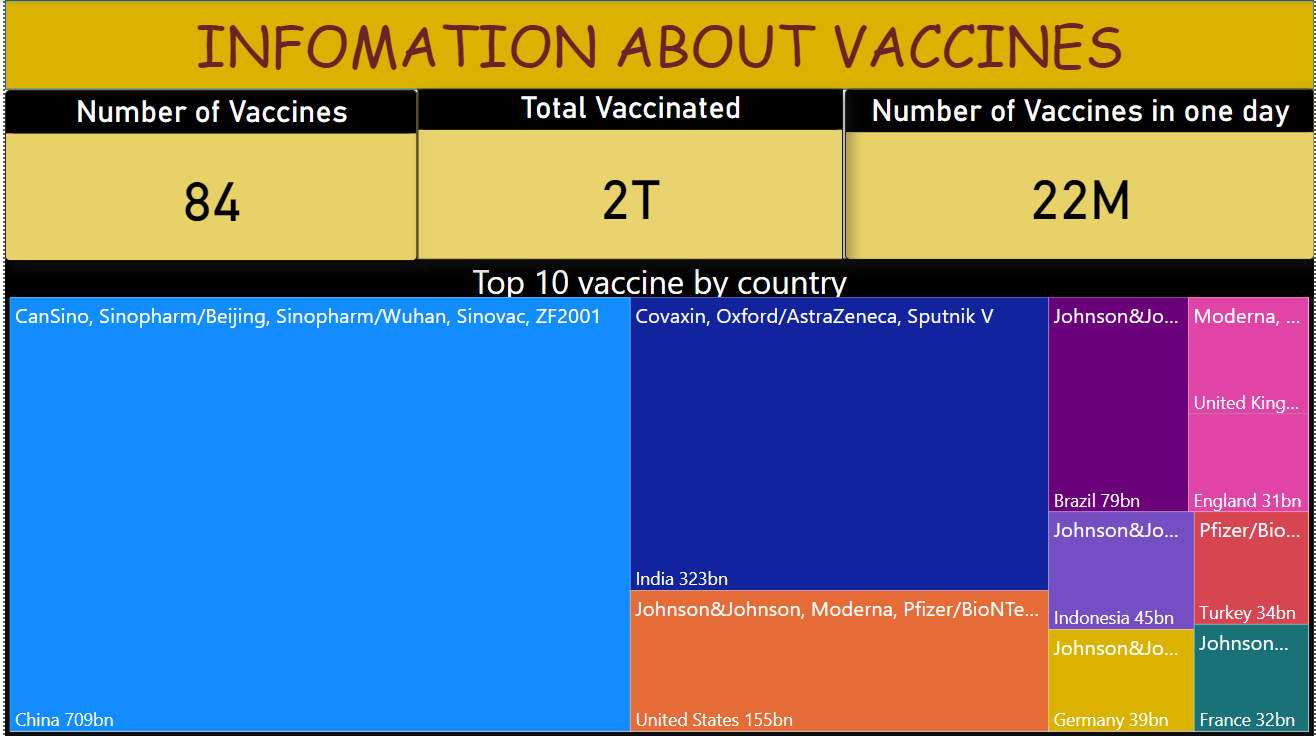

This screenshot's page, from the dashboard's own definition file:
{"tool":"powerbi","page":{"name":"Vaccines INFO","canvas":[1280,720],"ordinal":0},"visuals":[{"type":"treemap","title":"Top 10 vaccine by country","fields":{"Values":["Sum(country_vaccinations.total_vaccinations)"],"Group":["country_vaccinations.vaccines"],"Details":["country_vaccinations.country"]},"box":[0,252.9,1280,467.1],"z":0},{"type":"card","title":"Number of Vaccines","fields":{"Values":["Count(country_vaccinations.vaccines)"]},"box":[0,87.7,403.1,167.3],"z":1000},{"type":"shape","box":[0,0,1280.6,87.7],"z":2000},{"type":"card","title":"Number of Vaccines in one day","fields":{"Values":["Max(country_vaccinations.daily_vaccinations)"]},"box":[821.1,87.4,459.5,167.2],"z":3000},{"type":"card","title":"Total Vaccinated","fields":{"Values":["Sum(country_vaccinations.total_vaccinations)"]},"box":[403.8,87.4,415.8,167.2],"z":5000}]}

Visuals, with their boxes in screenshot pixels (x1, y1, x2, y2), scaled from the page's 1280x720 canvas onto the 1316x736 screenshot:
"Top 10 vaccine by country" treemap: pyautogui.locateOnScreen(0, 259, 1315, 735)
"Number of Vaccines" card: pyautogui.locateOnScreen(0, 90, 414, 261)
shape: pyautogui.locateOnScreen(0, 0, 1315, 90)
"Number of Vaccines in one day" card: pyautogui.locateOnScreen(844, 89, 1315, 260)
"Total Vaccinated" card: pyautogui.locateOnScreen(415, 89, 843, 260)
